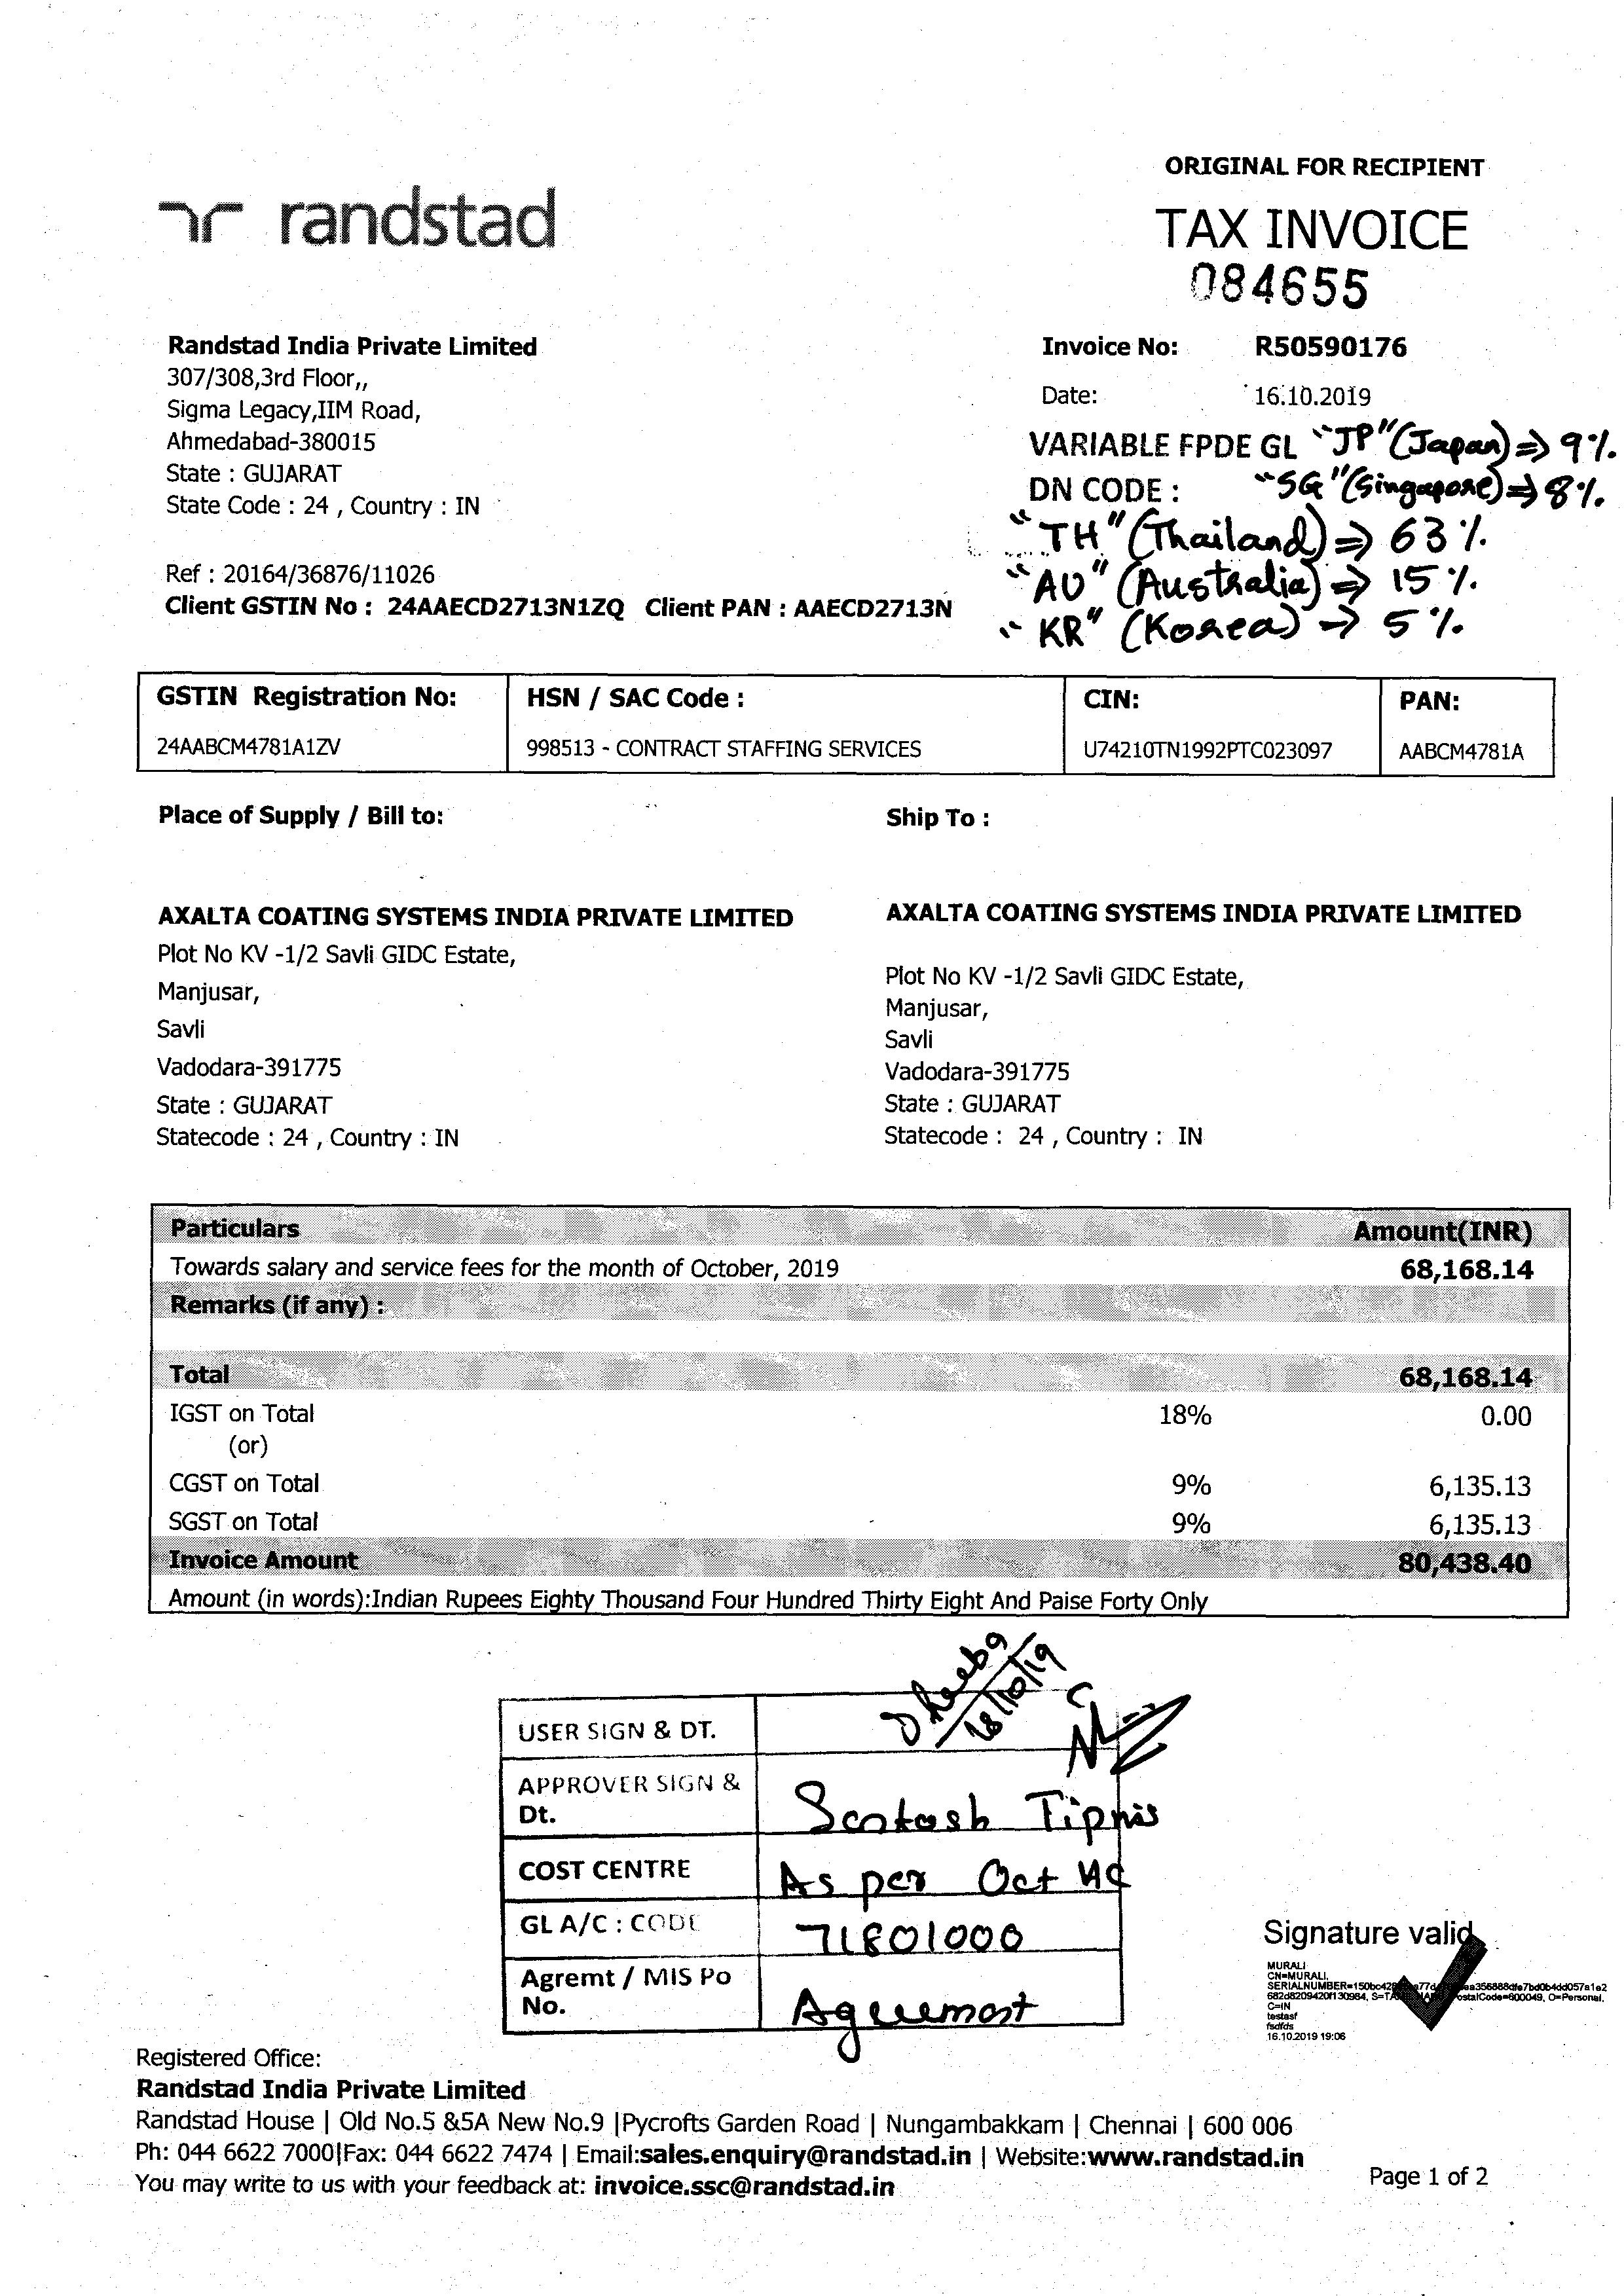B_Paragraph: (137, 2045, 1306, 2199), (877, 892, 1524, 1159), (155, 892, 794, 1159), (1021, 420, 1606, 646), (167, 329, 545, 531), (170, 562, 965, 627), (1028, 329, 1415, 413), (1158, 142, 1494, 177), (1185, 255, 1376, 316), (1258, 1899, 1483, 1948), (162, 798, 441, 836), (1367, 2155, 1499, 2199), (882, 803, 1002, 838)
B_Table: (141, 1193, 1575, 1621), (497, 1672, 1197, 2071), (123, 655, 1564, 792)
B_Title: (264, 181, 571, 267), (1149, 186, 1494, 260)
